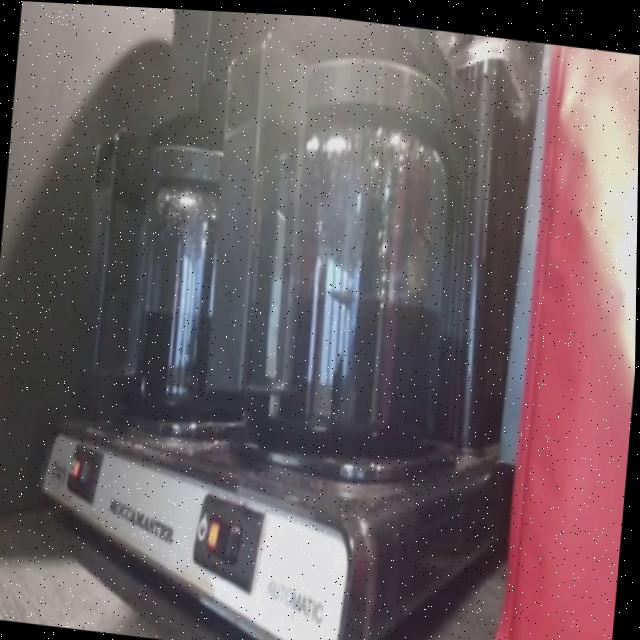coffee: (250, 143, 454, 445), (122, 207, 257, 422)
